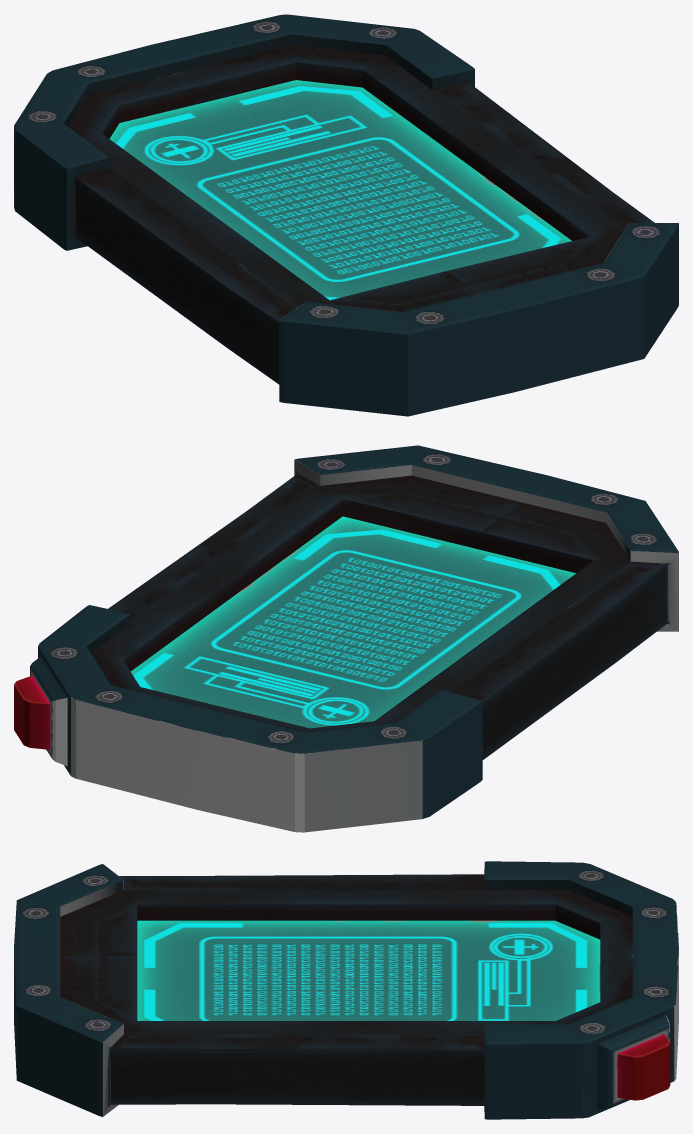
File: Tablet.fbx
The picture shows the model from 3 angles, top to bottom: view 1: azimuth 30°, elevation 25°; view 2: azimuth 150°, elevation 25°; view 3: azimuth 270°, elevation 25°; orthographic projection. The views are drawn at different scales.
Parts seen in each view (by area): view 1: Tablet_LP; view 2: Tablet_LP; view 3: Tablet_LP.
Part boxes in pixels (box(x1,y1,x2,y2)): Tablet_LP: box(14, 14, 678, 416); Tablet_LP: box(14, 445, 678, 832); Tablet_LP: box(14, 861, 678, 1119).
Size of the model in its own units: 482 by 96.16 by 740.
Materials: 1 (1 with a texture image).
